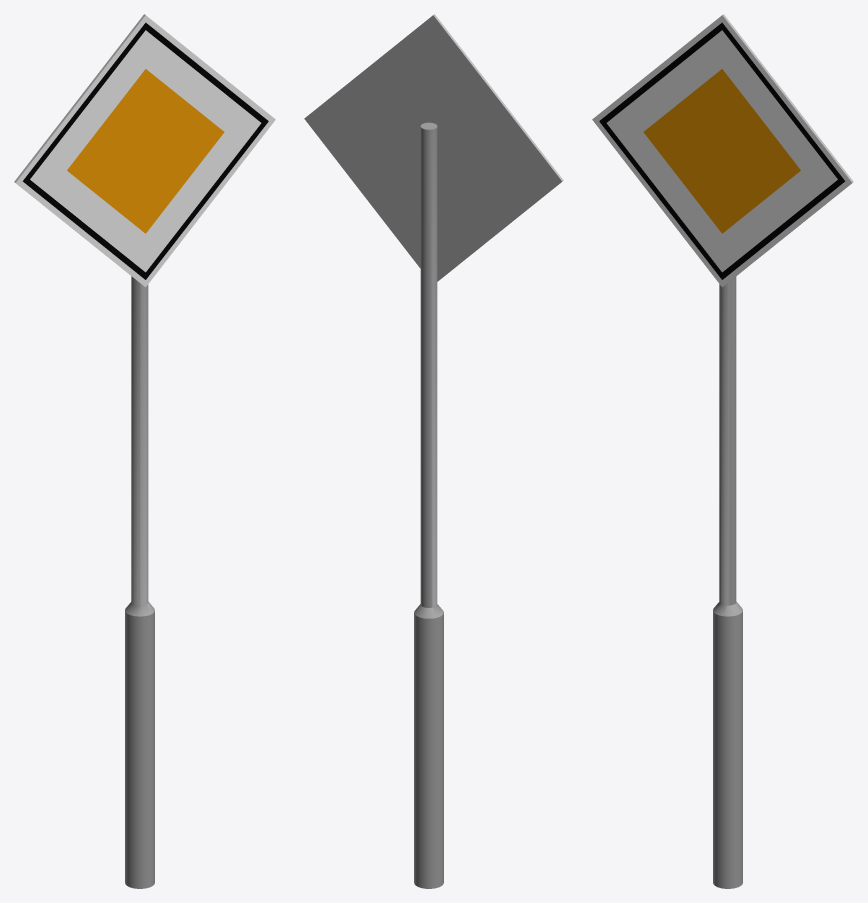
File: major_road_sign_nl.dae
3 renders of one model, left to right at view 1: azimuth 30°, elevation 25°; view 2: azimuth 150°, elevation 25°; view 3: azimuth 330°, elevation 25°, orthographic.
Parts seen in each view (by area): view 1: Component_2 (×5), group_0; view 2: Component_2, group_0; view 3: Component_2 (×5), group_0.
Part boxes in pixels (x1,y1,x2,y2): Component_2 (×5): (14, 14, 275, 287); group_0: (125, 276, 154, 888); Component_2: (304, 14, 563, 281); group_0: (414, 122, 443, 888); Component_2 (×5): (592, 14, 853, 287); group_0: (713, 276, 742, 888).
Bounding box in the file's own units: 39.37 × 3.94 × 126.
